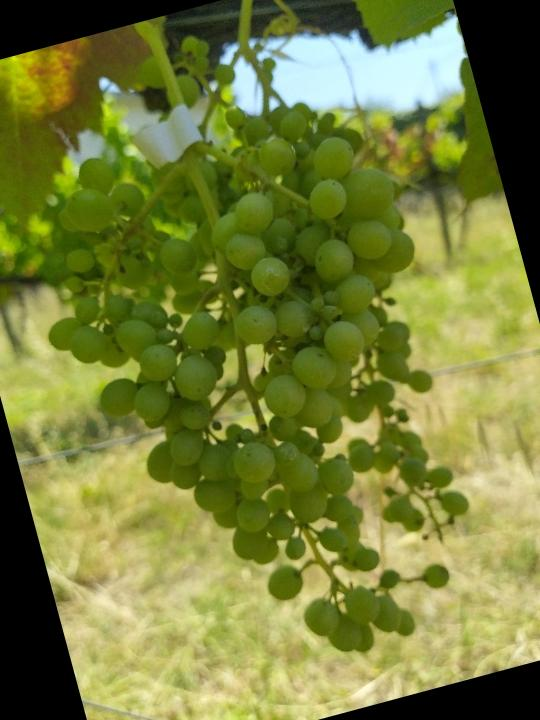grape: (0, 73, 517, 716)
